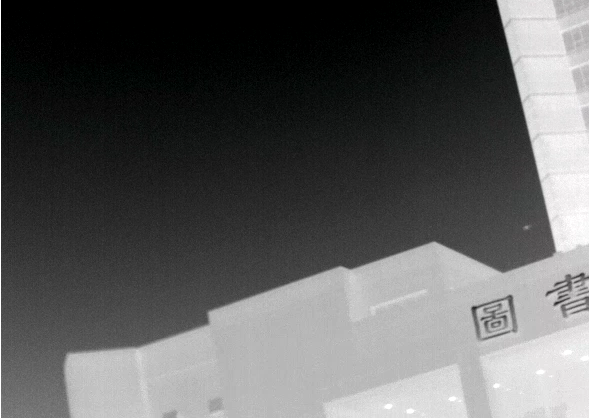dim target: (521, 223, 534, 230)
